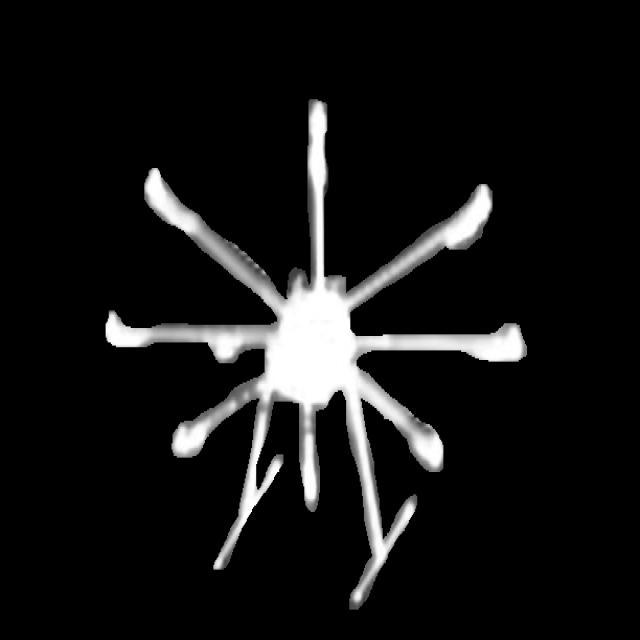drone: (94, 82, 540, 618)
